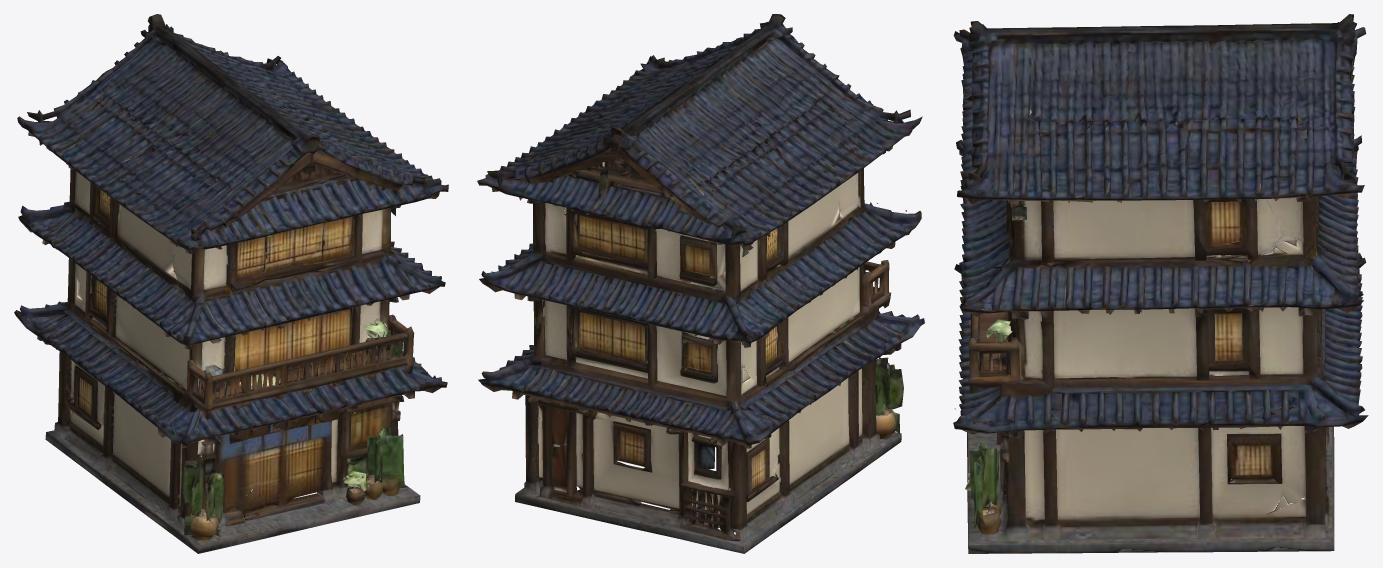
File: candidate.glb
3 views of the same model, side by side, from view 1: azimuth 30°, elevation 25°; view 2: azimuth 150°, elevation 25°; view 3: azimuth 270°, elevation 25° (orthographic). The views are drawn at different scales.
Parts seen in each view (by area): view 1: compact__villa_3__native_mobile; view 2: compact__villa_3__native_mobile; view 3: compact__villa_3__native_mobile.
Boxes of the visible parts, x1=… form: compact__villa_3__native_mobile: x1=14, y1=14, x2=448, y2=553; compact__villa_3__native_mobile: x1=477, y1=14, x2=924, y2=553; compact__villa_3__native_mobile: x1=953, y1=14, x2=1368, y2=553.
Bounding box in the file's own units: 0.7034 × 1 × 0.7879.
Materials: 1 (1 with a texture image).
